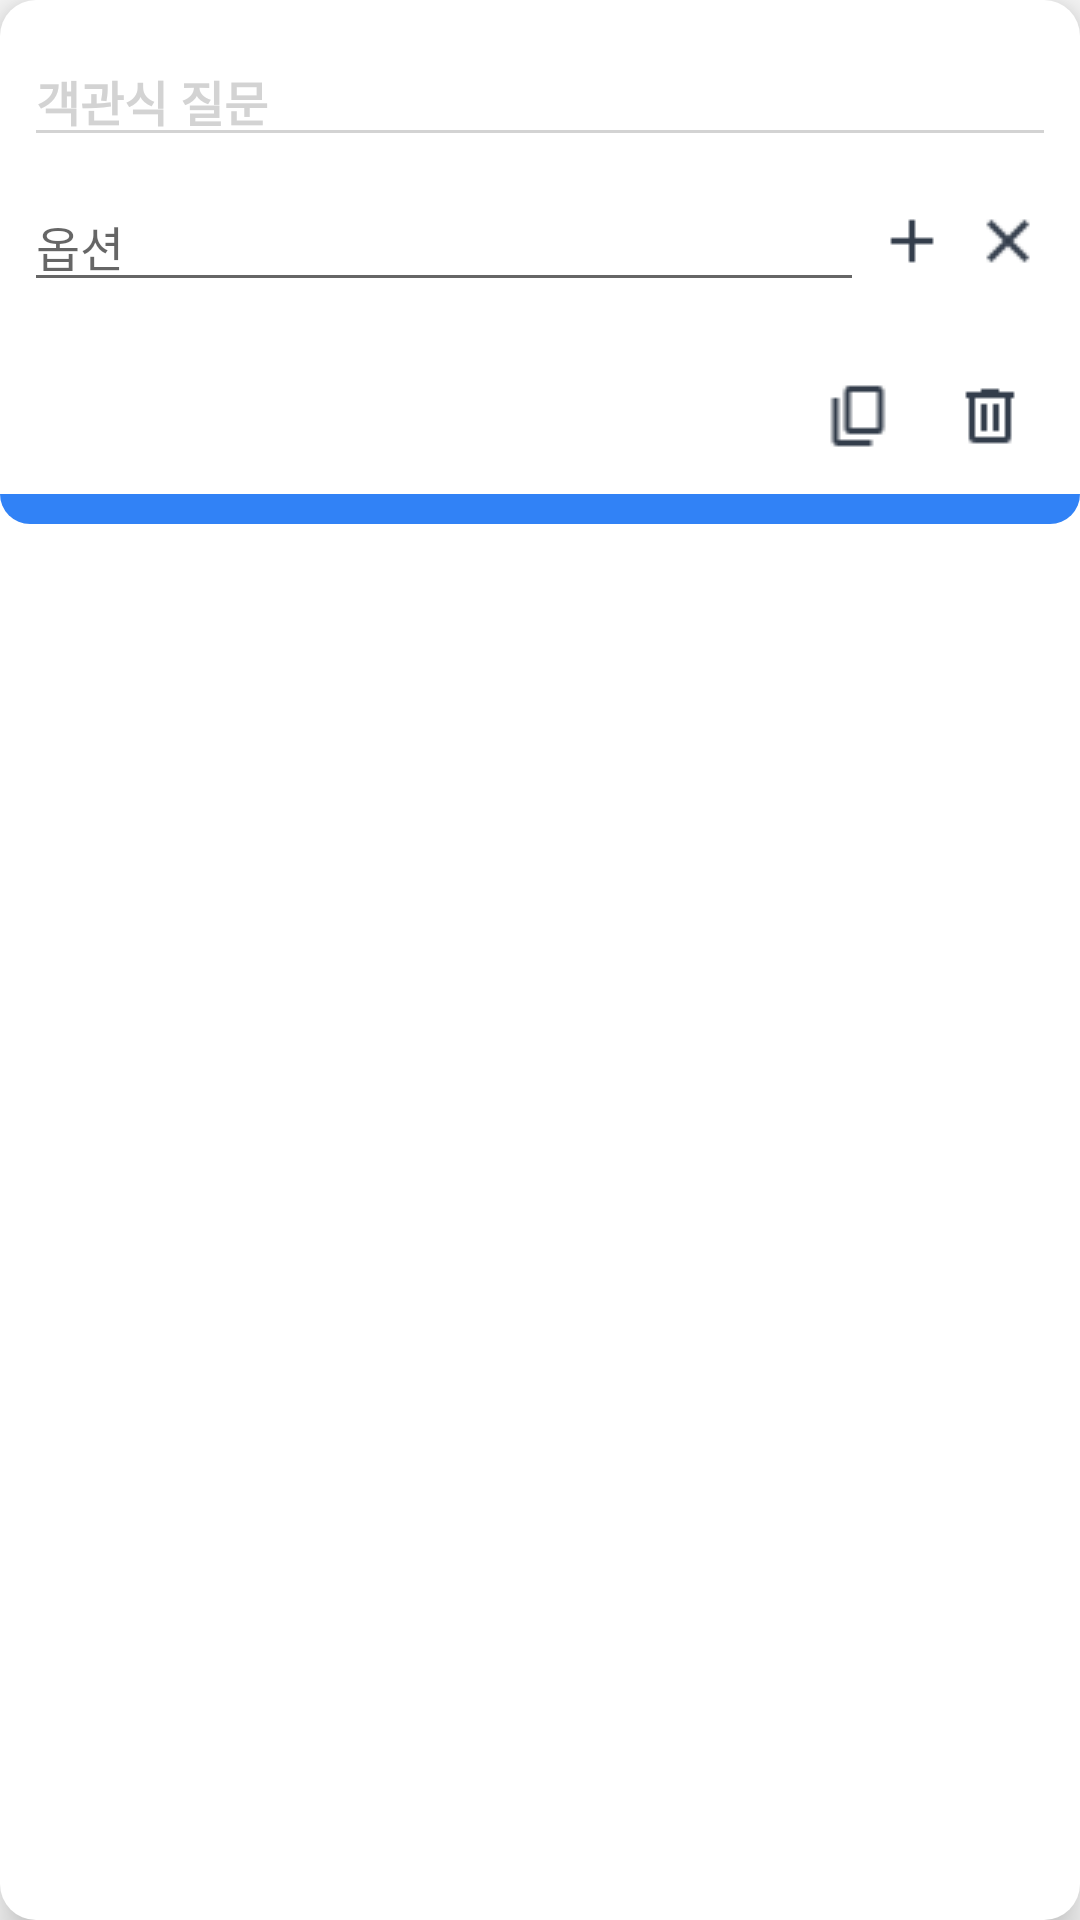

Where icons sit on this 1080w x 1920h app screen, as (x1,y1,x2,y2):
close: (986,219,1030,263)
delete: (965,388,1015,444)
plus: (890,219,934,263)
